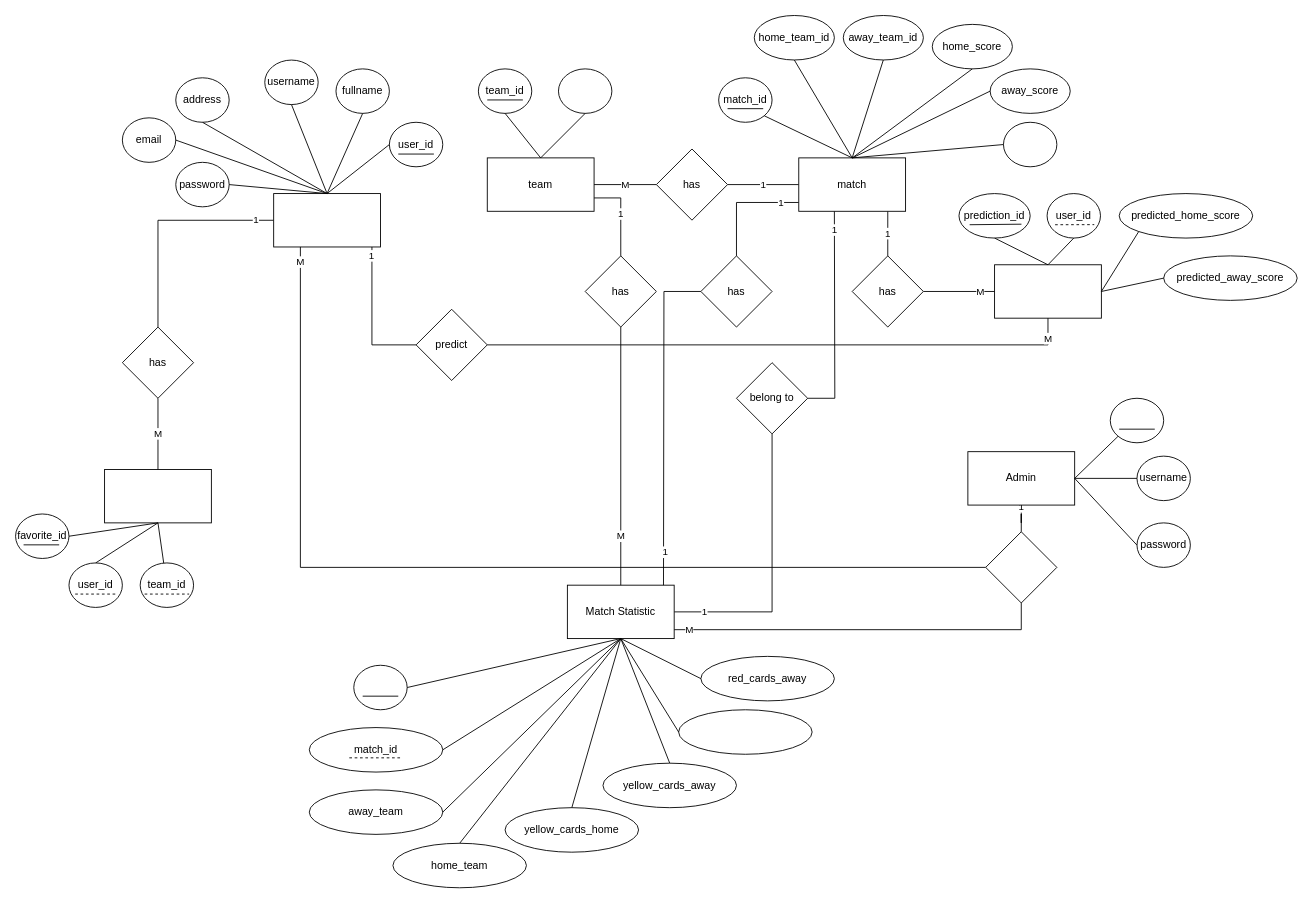
This 1313x904 diagram has some shape labels left out. The shapes that lost their labels are listed below. From the top down, each one's centre as x and y in pixels, then its label:
[585,90]: T-name
[1030,144]: status
[326,220]: user
[1047,291]: prediction
[1136,420]: admin_id
[157,496]: Favorite Team
[1021,567]: manage
[380,687]: MS_id
[745,731]: red_cards_home
